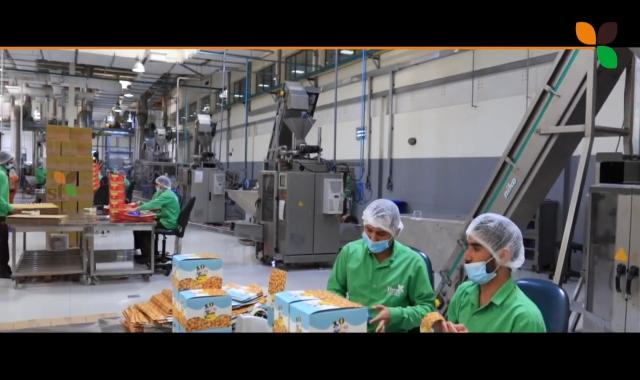hairnet: (462, 208, 524, 282), (362, 196, 405, 254), (0, 148, 15, 172), (154, 175, 171, 192)
